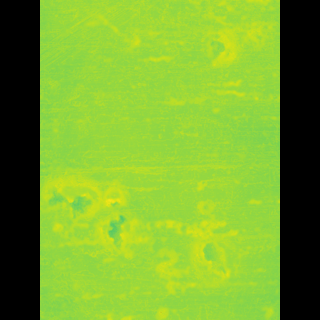Loch: (72, 174, 116, 234), (188, 234, 218, 288), (117, 212, 145, 257), (191, 27, 215, 66), (118, 183, 135, 212), (223, 25, 242, 47)
